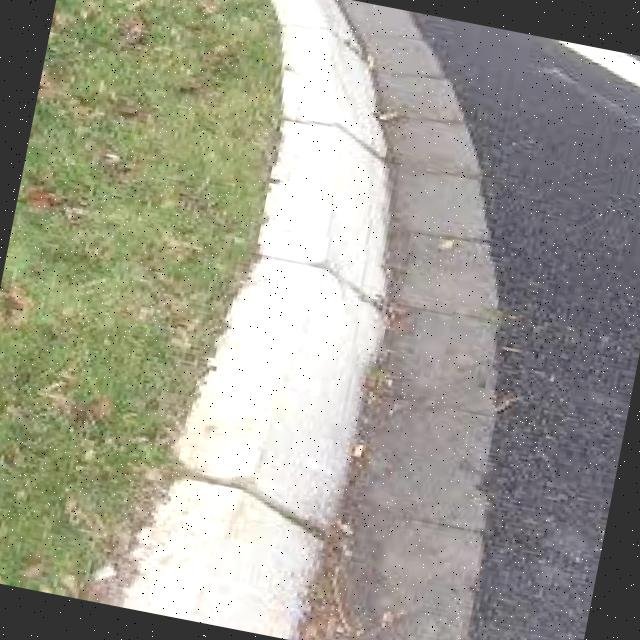curb: (109, 202, 386, 633), (225, 1, 442, 275)
